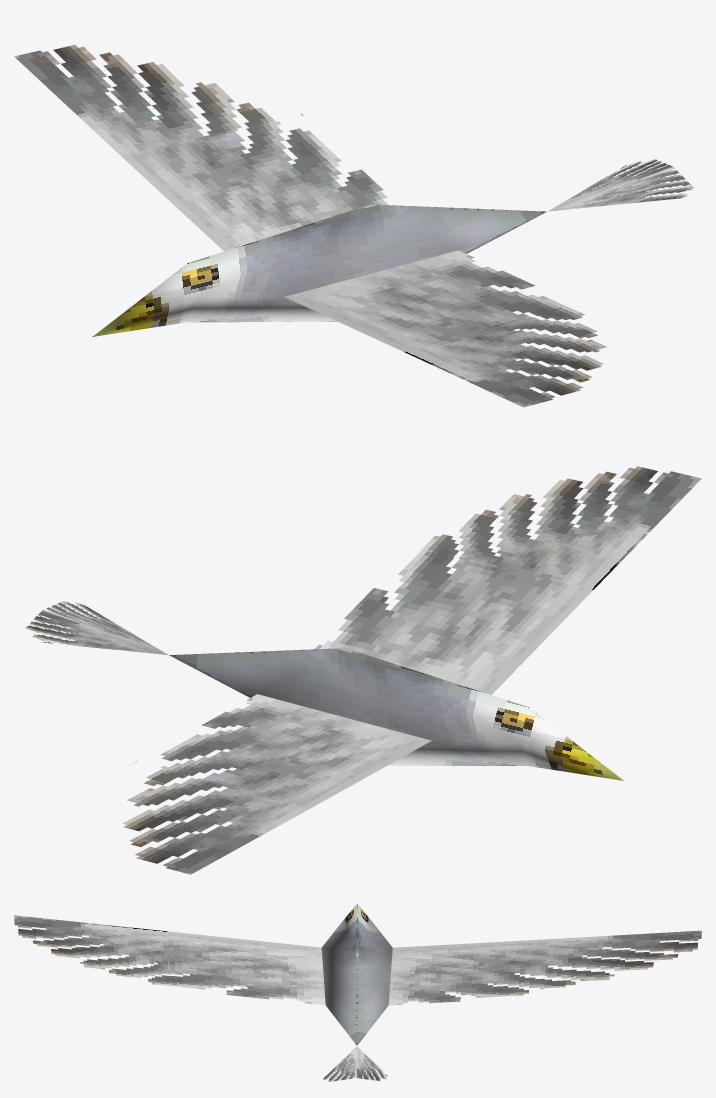
Rendered from bird01.glb.
3 renders of one model, top to bottom at view 1: azimuth 30°, elevation 25°; view 2: azimuth 150°, elevation 25°; view 3: azimuth 270°, elevation 25°, orthographic. The views are drawn at different scales.
Size of the model in its own units: 1.17 by 0.2275 by 1.78.
1 material, 1 textured.
